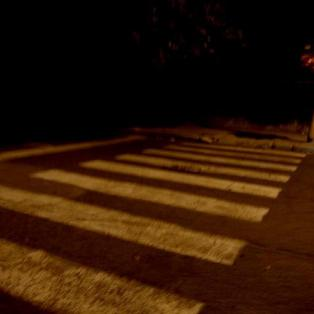Paso de Cebra: (23, 157, 285, 226)
